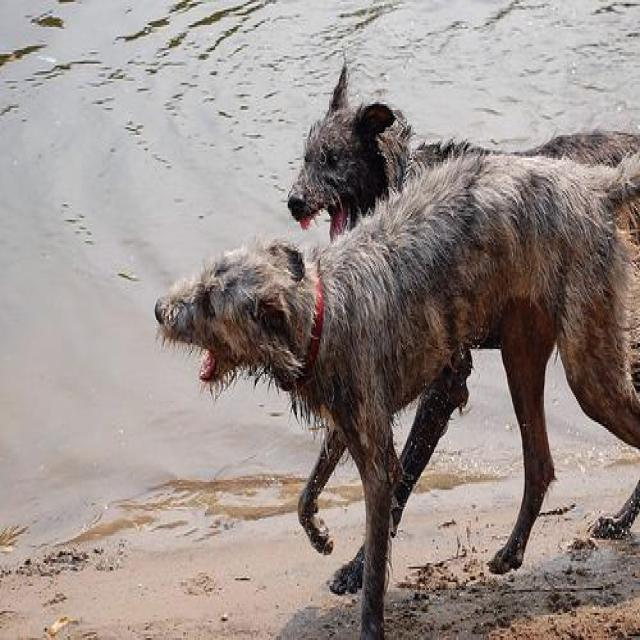irish_wolfhound: (150, 154, 638, 638), (282, 50, 638, 605)
